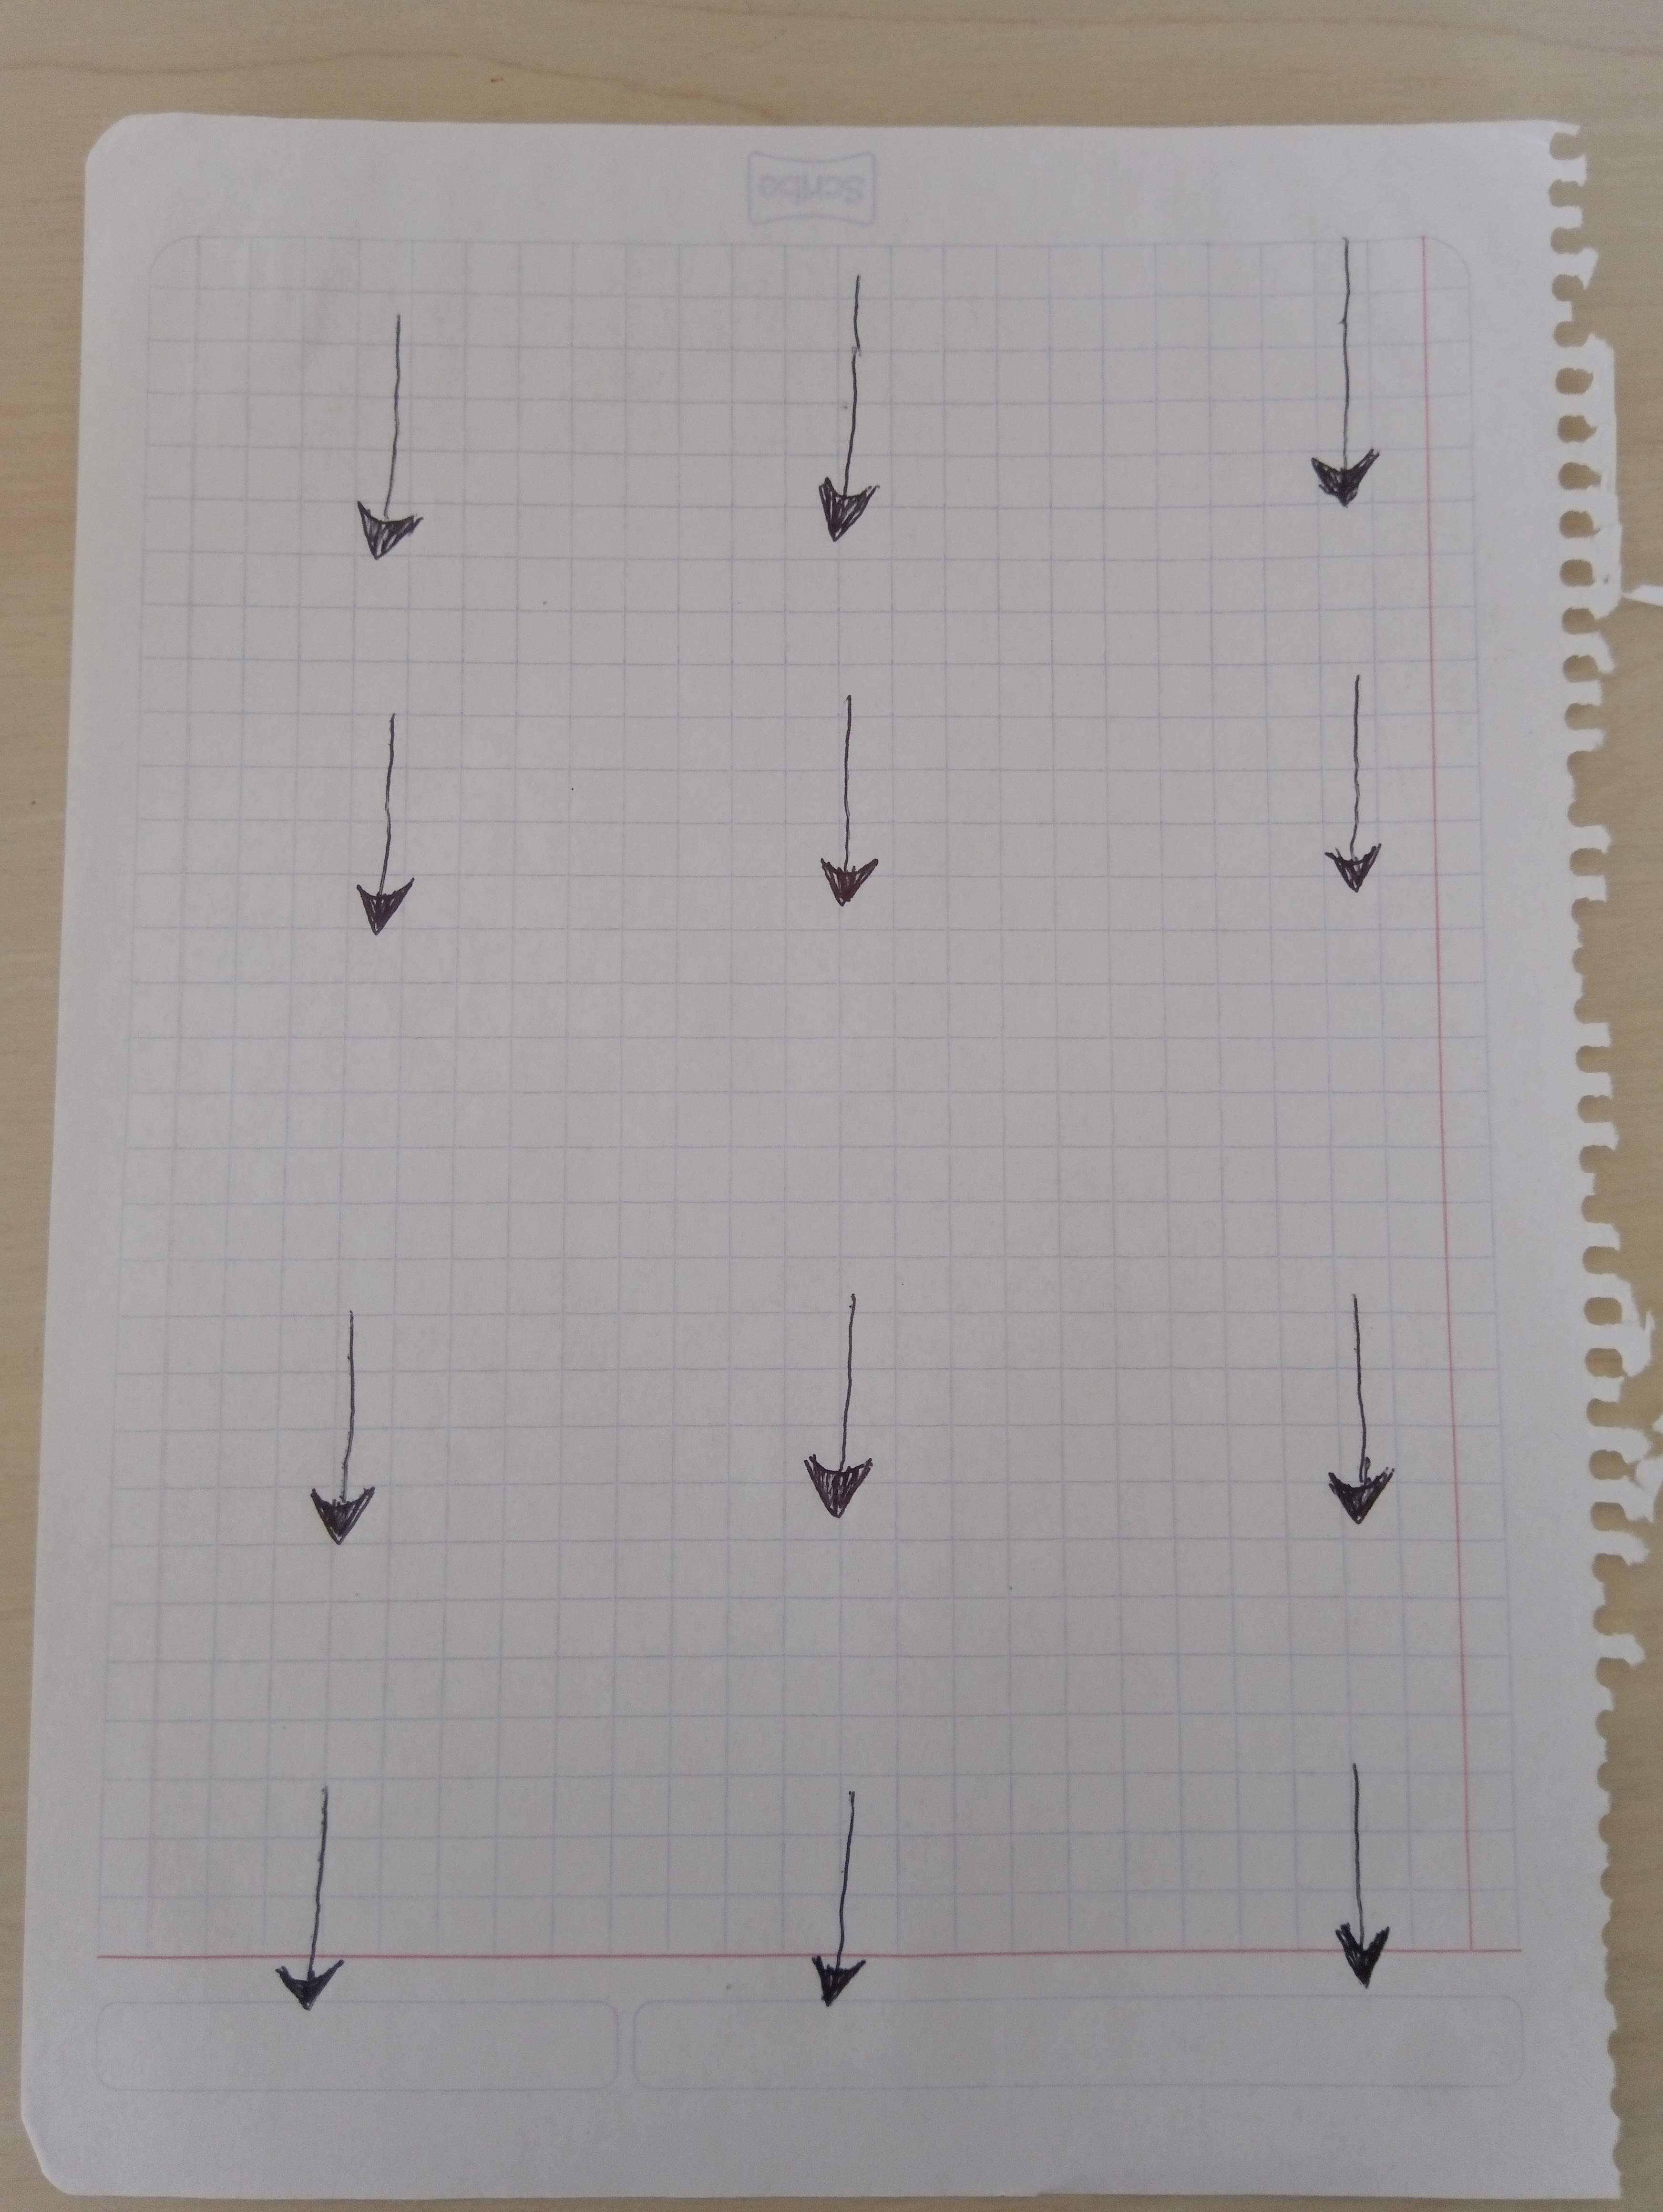arrow_line_down: (1298, 230, 1441, 520), (1284, 1283, 1432, 1549), (1298, 1748, 1432, 2008), (769, 1283, 912, 1526), (798, 243, 898, 564), (330, 698, 456, 950), (790, 1760, 894, 2043), (1293, 681, 1418, 915), (262, 1769, 370, 2037), (804, 681, 915, 938), (348, 292, 438, 590), (300, 1306, 404, 1564)
